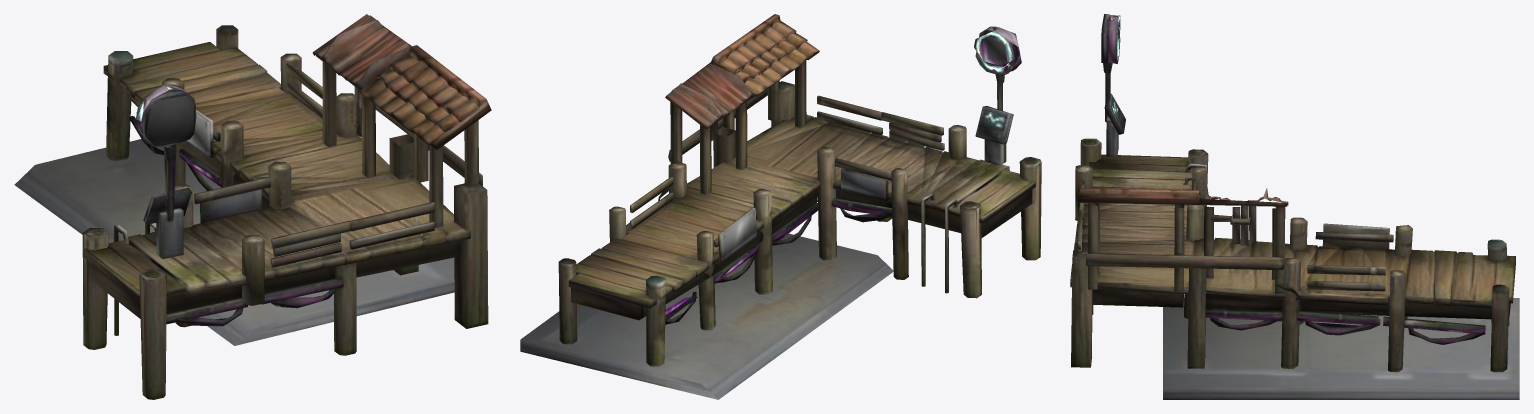
Rendered from jetty.glb.
The picture shows the model from 3 angles, left to right: view 1: azimuth 30°, elevation 25°; view 2: azimuth 150°, elevation 25°; view 3: azimuth 270°, elevation 25°; orthographic projection. The views are drawn at different scales.
Parts seen in each view (by area): view 1: Body; view 2: Body, Glow; view 3: Body.
Boxes of the visible parts, box(x1,y1,x2,y2) form: Body: box(14, 14, 491, 399); Body: box(520, 14, 1041, 399); Glow: box(974, 31, 1014, 75); Body: box(1070, 14, 1519, 399).
Size of the model in its own units: 2.81 by 2.13 by 3.51.
2 materials, 2 textured.
